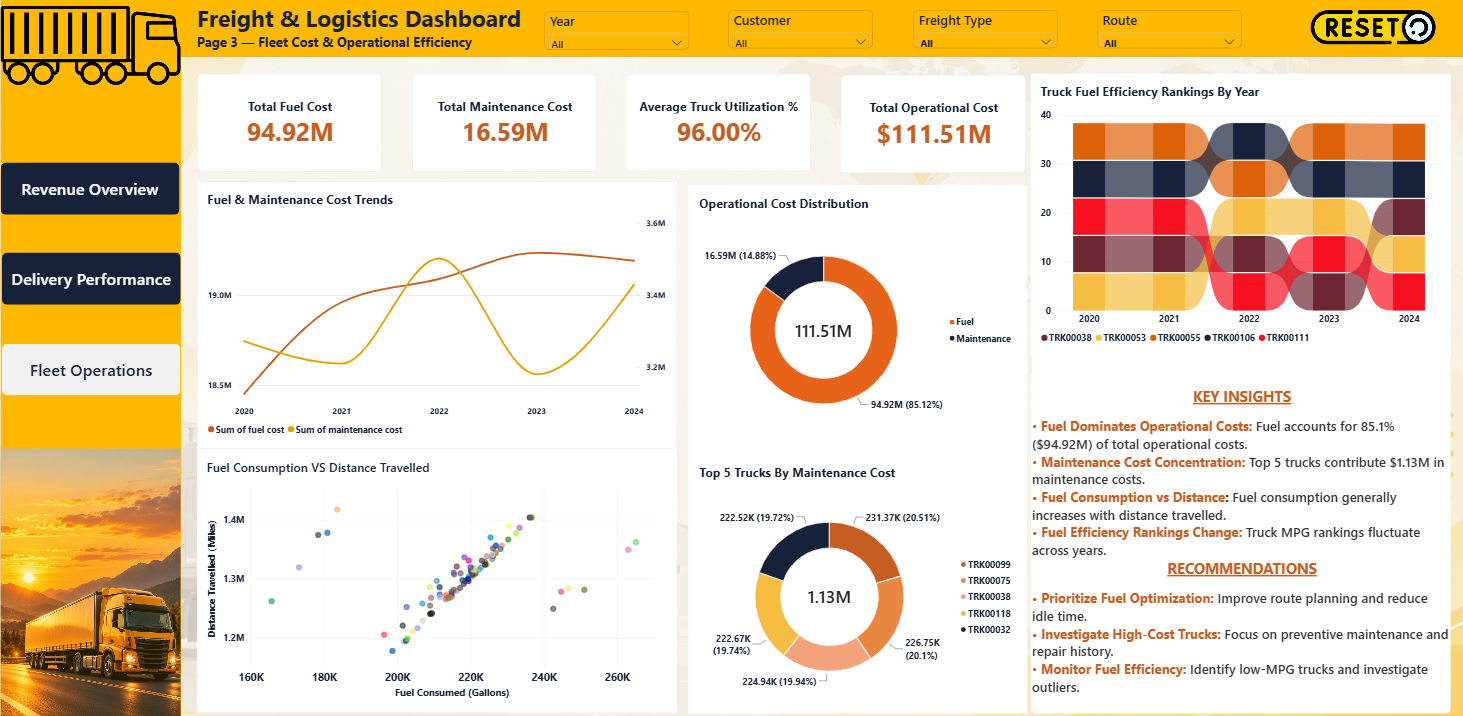

This screenshot's page, from the dashboard's own definition file:
{"tool":"powerbi","page":{"name":"Fleet Cost & Operational Efficiency","canvas":[2400,1180],"ordinal":2},"visuals":[{"type":"shape","box":[1689.4,129.8,683,1034],"z":0},{"type":"shape","box":[325.6,304.7,783.7,867.4],"z":1000},{"type":"shape","box":[1127.9,309.3,553.5,862.8],"z":2000},{"type":"shape","box":[1687.8,614.3,685.7,559.2],"z":3000},{"type":"shape","box":[297.9,2.1,2101.1,98.9],"z":4000},{"type":"textbox","box":[326,12,542.9,55.2],"z":5000},{"type":"image","box":[69.7,209,169.4,83.7],"z":6000},{"type":"textbox","box":[326,62,452.8,35],"z":7000},{"type":"slicer","fields":{"Values":["loads.load_date.Variation.Date Hierarchy.Year"]},"box":[894,26,235.9,62.8],"z":8000},{"type":"slicer","fields":{"Values":["customers.customer_name"]},"box":[1194.6,25,235.9,62.8],"z":9000},{"type":"slicer","fields":{"Values":["loads.load_type"]},"box":[1495.2,25,235.9,62.8],"z":10000},{"type":"slicer","fields":{"Values":["routes.route_id"]},"box":[1795.8,25,235.9,62.8],"z":11000},{"type":"shape","box":[6.7,0,294.4,1179.8],"z":12000},{"type":"image","box":[2145.8,18.8,204.2,68.8],"z":13000},{"type":"image","box":[6.2,12.5,293.8,139.6],"z":14000},{"type":"image","box":[6.2,741.7,293.8,437.5],"z":15000},{"type":"actionButton","box":[6.2,272.9,291.7,85.4],"z":16000},{"type":"actionButton","box":[8.3,420.8,291.7,85.4],"z":17000},{"type":"actionButton","box":[8.9,568.9,291.1,84.4],"z":18000},{"type":"cardVisual","fields":{"Data":["_measures.Total Operational Cost"]},"box":[1378.3,130.4,302,160],"z":19000},{"type":"cardVisual","fields":{"Data":["_measures.Total Fuel Cost"]},"box":[326.5,128.6,302,160],"z":20000},{"type":"cardVisual","fields":{"Data":["_measures.Total Maintenance Cost"]},"box":[677,128.6,302,160],"z":21000},{"type":"cardVisual","fields":{"Data":["_measures.Average Truck Utilization %"]},"box":[1027.5,129.5,302.3,159.1],"z":22000},{"type":"lineChart","title":" Fuel & Maintenance Cost Trends","fields":{"Category":["yearly_costs.Year"],"Y":["Sum(yearly_costs.fuel cost)"],"Y2":["Sum(yearly_costs.maintenance cost)"]},"box":[326.1,304.3,782.6,437],"z":23000},{"type":"donutChart","title":"Top 5 Trucks By Maintenance Cost","fields":{"Category":["maintenance_records.truck_id"],"Y":["_measures.Total Maintenance Cost"]},"box":[1130.4,750,550,421.7],"z":24000},{"type":"scatterChart","title":"Fuel Consumption VS Distance Travelled","fields":{"Series":["trips.truck_id"],"X":["Sum(trips.fuel_gallons_used)"],"Y":["Sum(trips.actual_distance_miles)"]},"box":[325.6,741.9,782.6,421.7],"z":25000},{"type":"donutChart","title":"Operational Cost Distribution","fields":{"Category":["Cost Distribution.Cost Type"],"Y":["Sum(Cost Distribution.Cost Amount)"]},"box":[1130.2,311.6,550,428.3],"z":26000},{"type":"ribbonChart","title":"Truck Fuel Efficiency Rankings By Year","fields":{"Category":["trips.dispatch_date.Variation.Date Hierarchy.Year"],"Series":["trips.truck_id"],"Y":["Avg(trips.average_mpg)"]},"box":[1688.1,128.6,685.7,461.9],"z":27000},{"type":"textbox","box":[1689.8,620.4,685.7,559.5],"z":28000}]}

Visuals, with their boxes in screenshot pixels (x1, y1, x2, y2), scaled from the page's 2400x1180 canvas onto the 1463x716 screenshot:
shape: (1030, 79, 1446, 706)
shape: (198, 185, 676, 711)
shape: (688, 188, 1025, 711)
shape: (1029, 373, 1447, 712)
shape: (182, 1, 1462, 61)
textbox: (199, 7, 530, 41)
image: (42, 127, 146, 178)
textbox: (199, 38, 475, 59)
slicer - loads.load_date.Variation.Date Hierarchy.Year: (545, 16, 689, 54)
slicer - customers.customer_name: (728, 15, 872, 53)
slicer - loads.load_type: (911, 15, 1055, 53)
slicer - routes.route_id: (1095, 15, 1238, 53)
shape: (4, 0, 184, 715)
image: (1308, 11, 1433, 53)
image: (4, 8, 183, 92)
image: (4, 450, 183, 715)
actionButton: (4, 166, 182, 217)
actionButton: (5, 255, 183, 307)
actionButton: (5, 345, 183, 396)
cardVisual - _measures.Total Operational Cost: (840, 79, 1024, 176)
cardVisual - _measures.Total Fuel Cost: (199, 78, 383, 175)
cardVisual - _measures.Total Maintenance Cost: (413, 78, 597, 175)
cardVisual - _measures.Average Truck Utilization %: (626, 79, 811, 175)
" Fuel & Maintenance Cost Trends" lineChart: (199, 185, 676, 450)
"Top 5 Trucks By Maintenance Cost" donutChart: (689, 455, 1024, 711)
"Fuel Consumption VS Distance Travelled" scatterChart: (198, 450, 676, 706)
"Operational Cost Distribution" donutChart: (689, 189, 1024, 449)
"Truck Fuel Efficiency Rankings By Year" ribbonChart: (1029, 78, 1447, 358)
textbox: (1030, 376, 1448, 715)
